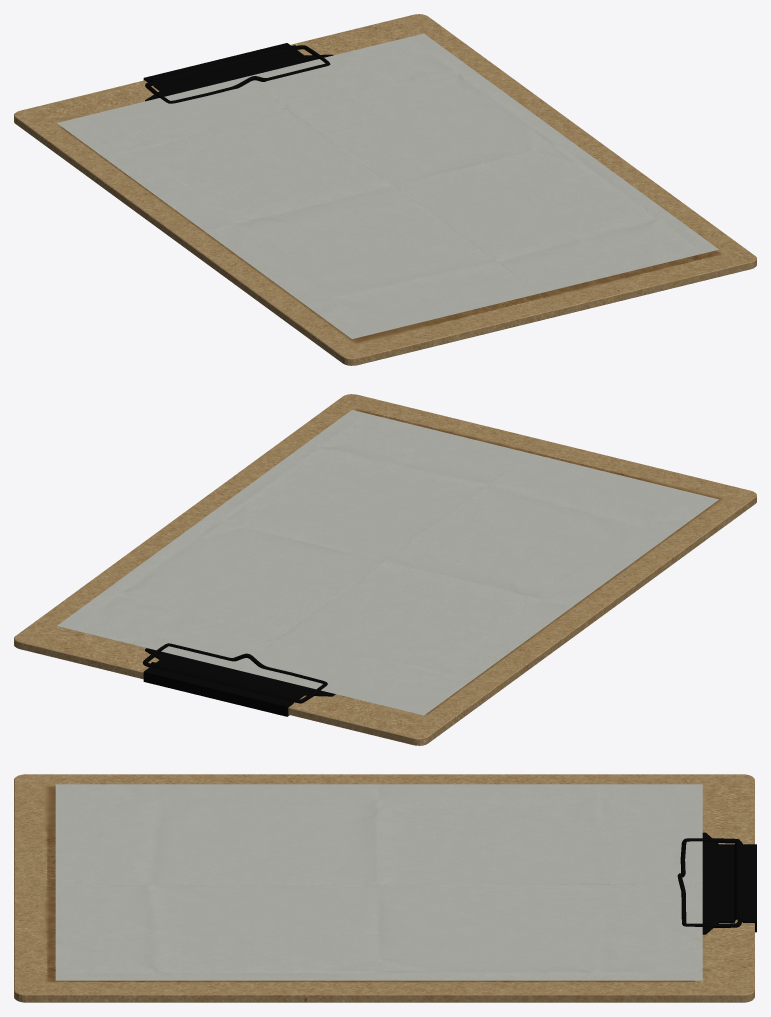
The model's file is clipboard.fbx.
3 views of the same model, one above another, from view 1: azimuth 30°, elevation 25°; view 2: azimuth 150°, elevation 25°; view 3: azimuth 270°, elevation 25° (orthographic). The views are drawn at different scales.
Parts seen in each view (by area): view 1: page, board_1, Sweep; view 2: page, board_1, Sweep; view 3: page, board_1, Sweep.
Part boxes in pixels (x1,y1,x2,y2): page: (57,33,718,339); board_1: (14,14,756,365); Sweep: (143,43,333,103); page: (57,410,718,715); board_1: (14,394,756,745); Sweep: (142,643,335,716); page: (55,784,702,980); board_1: (14,774,754,1002); Sweep: (677,832,756,934).
Bounding box in the file's own units: 26.74 × 1.17 × 38.01.
